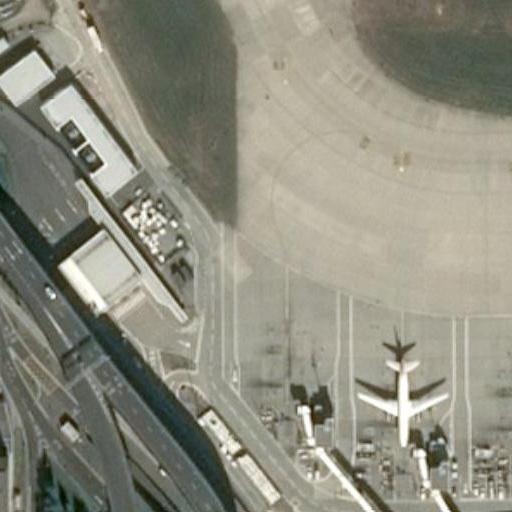Aircraft: (357, 351, 451, 444)
